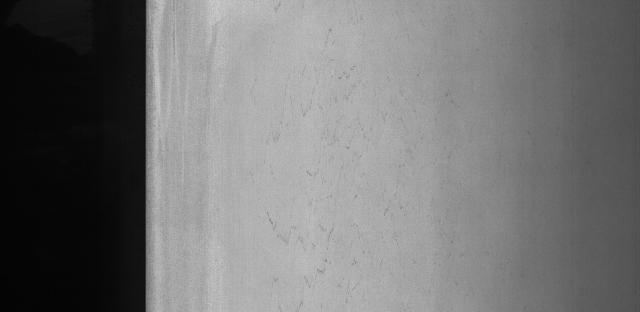silk_spot: (250, 31, 384, 291)
